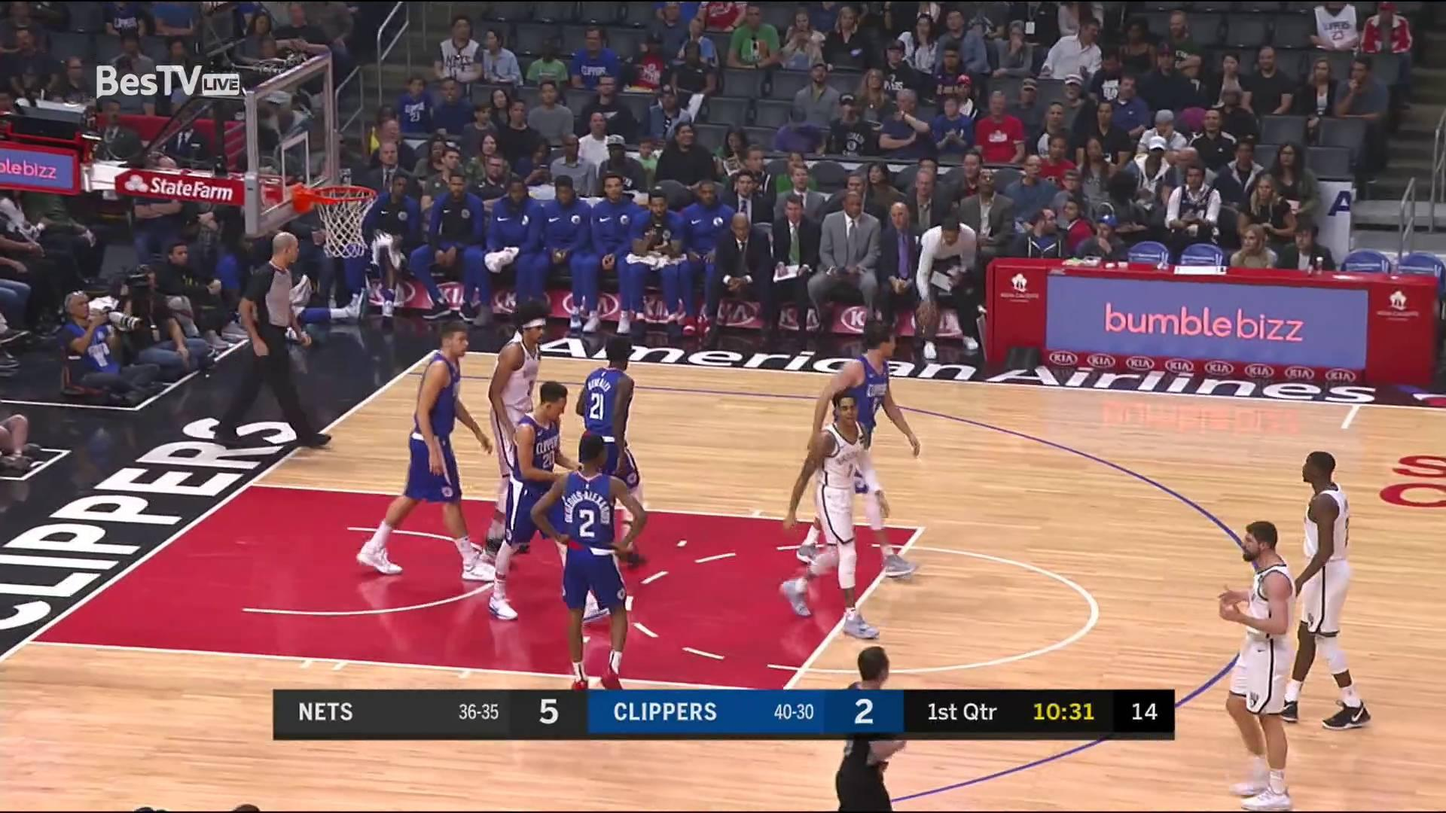basketball: (916, 309, 946, 332)
